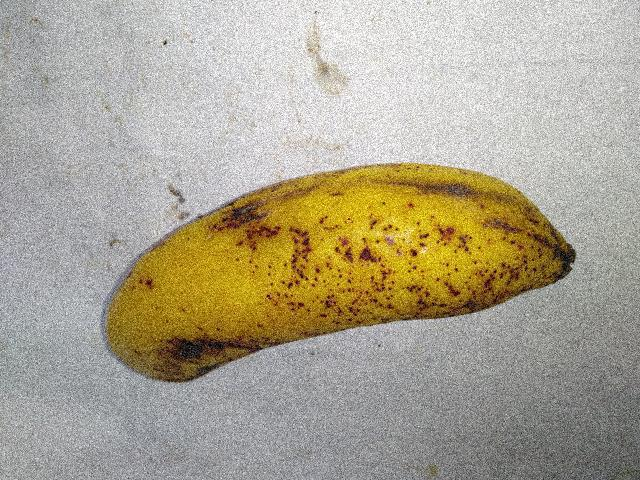rotten: (336, 137, 563, 241), (147, 312, 276, 391), (199, 165, 277, 234)
